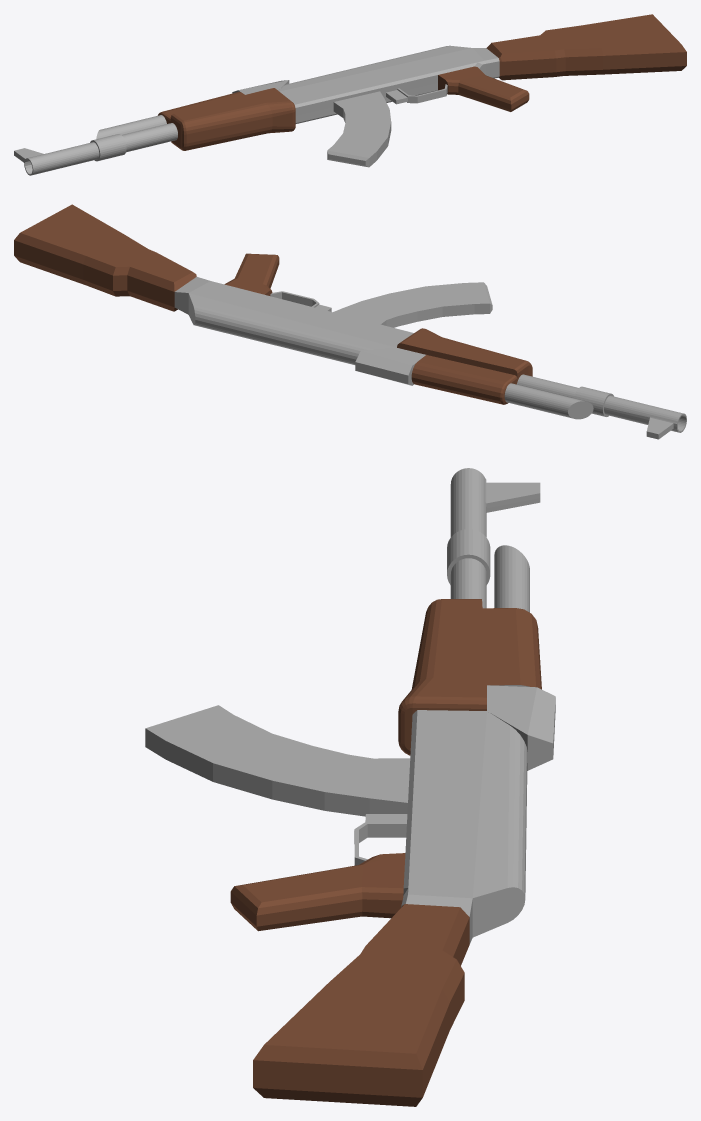
3 renders of one model, top to bottom at view 1: azimuth 30°, elevation 25°; view 2: azimuth 150°, elevation 25°; view 3: azimuth 270°, elevation 25°, orthographic. The views are drawn at different scales.
Visible parts, largest first — view 1: Plane; view 2: Plane; view 3: Plane.
Part boxes in pixels (bbox=[...]): Plane: bbox=[14, 14, 686, 175]; Plane: bbox=[14, 204, 686, 439]; Plane: bbox=[145, 468, 555, 1106].
Bounding box in the file's own units: 4.5 × 0.2077 × 1.3.
